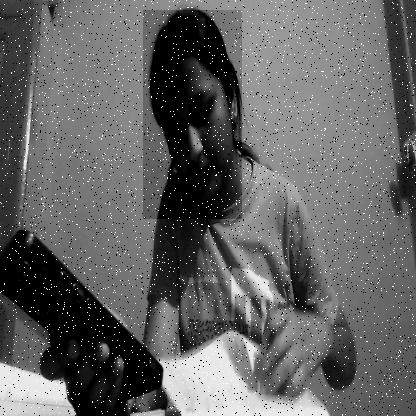Distracted: (143, 10, 242, 219)
